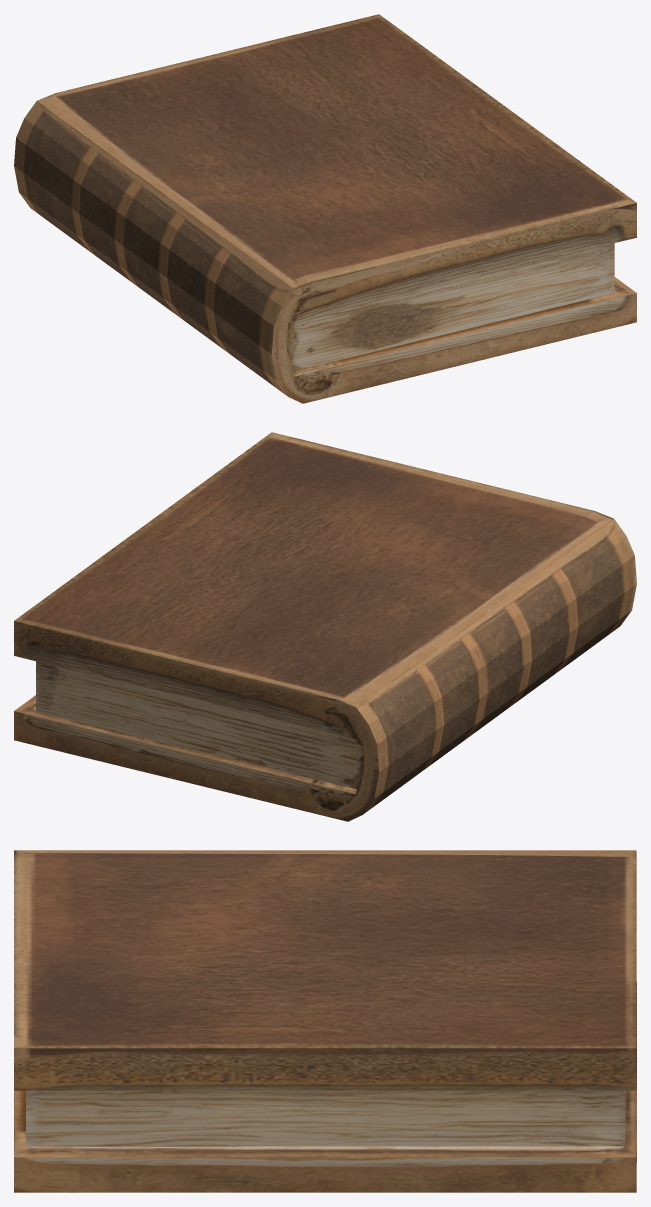
File: Book_00.fbx
The picture shows the model from 3 angles, top to bottom: view 1: azimuth 30°, elevation 25°; view 2: azimuth 150°, elevation 25°; view 3: azimuth 270°, elevation 25°; orthographic projection. The views are drawn at different scales.
Visible parts, largest first — view 1: Book_00; view 2: Book_00; view 3: Book_00.
Part boxes in pixels (x1,y1,x2,y2): Book_00: (14, 14, 636, 403); Book_00: (14, 432, 636, 821); Book_00: (14, 850, 636, 1192).
Size of the model in its own units: 0.3208 by 0.1002 by 0.3926.
